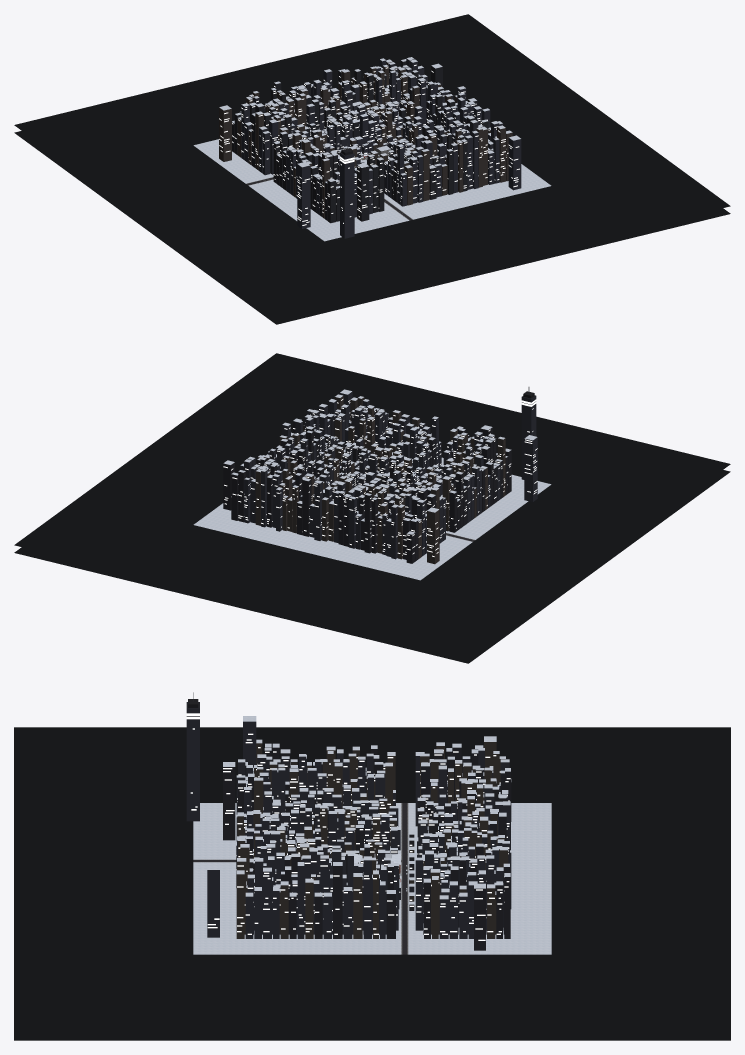
File: InkboundMaps_Campus.fbx
3 renders of one model, top to bottom at view 1: azimuth 30°, elevation 25°; view 2: azimuth 150°, elevation 25°; view 3: azimuth 270°, elevation 25°, orthographic. The views are drawn at different scales.
Parts seen in each view (by area): view 1: Map_Campus_CoreDark_3, Map_Campus_CoreDark_1, Map_Campus_CoreDark_4, Map_Campus_CoreDark_2, Map_Campus_CityFacade_1, Map_Campus_Snow_1, Map_Campus_CityRoof_1, Map_Campus_CityFacadeWarm_1, Map_Campus_WindowLit_19; view 2: Map_Campus_CoreDark_4, Map_Campus_CoreDark_2, Map_Campus_CoreDark_3, Map_Campus_CoreDark_1, Map_Campus_CityFacade_1, Map_Campus_Snow_1, Map_Campus_CityRoof_1, Map_Campus_CityFacadeWarm_1, Map_Campus_WindowLit_19, Map_Campus_WindowLit_20; view 3: Map_Campus_CoreDark_1, Map_Campus_CoreDark_2, Map_Campus_CoreDark_4, Map_Campus_CoreDark_3, Map_Campus_Snow_1, Map_Campus_CityFacade_1, Map_Campus_CityFacadeWarm_1, Map_Campus_CityRoof_1, Map_Campus_Asphalt_1, Map_Campus_WindowLit_19, Map_Campus_WindowLit_17, Map_Campus_SnowPath_1 (+1 smaller).
Boxes of the visible parts, left/top/right/bottom form: Map_Campus_CoreDark_3: left=145, top=193, right=503, bottom=324; Map_Campus_CoreDark_1: left=438, top=110, right=730, bottom=269; Map_Campus_CoreDark_4: left=14, top=69, right=270, bottom=228; Map_Campus_CoreDark_2: left=241, top=14, right=599, bottom=131; Map_Campus_CityFacade_1: left=241, top=58, right=521, bottom=238; Map_Campus_Snow_1: left=193, top=57, right=551, bottom=241; Map_Campus_CityRoof_1: left=232, top=60, right=490, bottom=223; Map_Campus_CityFacadeWarm_1: left=219, top=61, right=512, bottom=218; Map_Campus_WindowLit_19: left=281, top=137, right=421, bottom=225; Map_Campus_CoreDark_4: left=241, top=532, right=599, bottom=663; Map_Campus_CoreDark_2: left=14, top=449, right=306, bottom=608; Map_Campus_CoreDark_3: left=441, top=408, right=730, bottom=567; Map_Campus_CoreDark_1: left=145, top=353, right=503, bottom=471; Map_Campus_CityFacade_1: left=240, top=391, right=537, bottom=559; Map_Campus_Snow_1: left=193, top=389, right=551, bottom=580; Map_Campus_CityRoof_1: left=223, top=395, right=535, bottom=563; Map_Campus_CityFacadeWarm_1: left=255, top=396, right=505, bottom=564; Map_Campus_WindowLit_19: left=394, top=402, right=537, bottom=516; Map_Campus_WindowLit_20: left=322, top=477, right=463, bottom=555; Map_Campus_CoreDark_1: left=14, top=878, right=372, bottom=1040; Map_Campus_CoreDark_2: left=372, top=878, right=730, bottom=1040; Map_Campus_CoreDark_4: left=372, top=727, right=730, bottom=878; Map_Campus_CoreDark_3: left=14, top=727, right=372, bottom=878; Map_Campus_Snow_1: left=193, top=716, right=551, bottom=954; Map_Campus_CityFacade_1: left=186, top=708, right=511, bottom=938; Map_Campus_CityFacadeWarm_1: left=236, top=742, right=508, bottom=938; Map_Campus_CityRoof_1: left=186, top=702, right=511, bottom=950; Map_Campus_Asphalt_1: left=193, top=803, right=407, bottom=954; Map_Campus_WindowLit_19: left=186, top=716, right=372, bottom=844; Map_Campus_WindowLit_17: left=207, top=823, right=371, bottom=932; Map_Campus_SnowPath_1: left=193, top=803, right=408, bottom=954.
Bounding box in the file's own units: 2800 × 587 × 2800.
56 materials, 26 textured.
